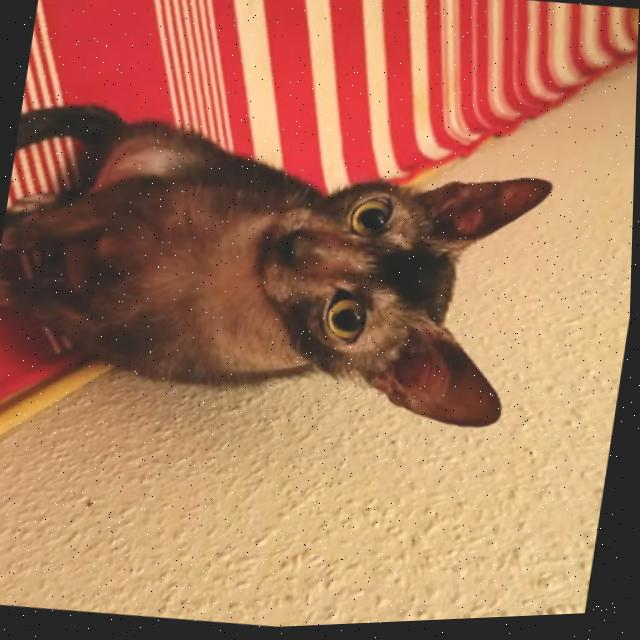Lykoi: (0, 73, 567, 460)
